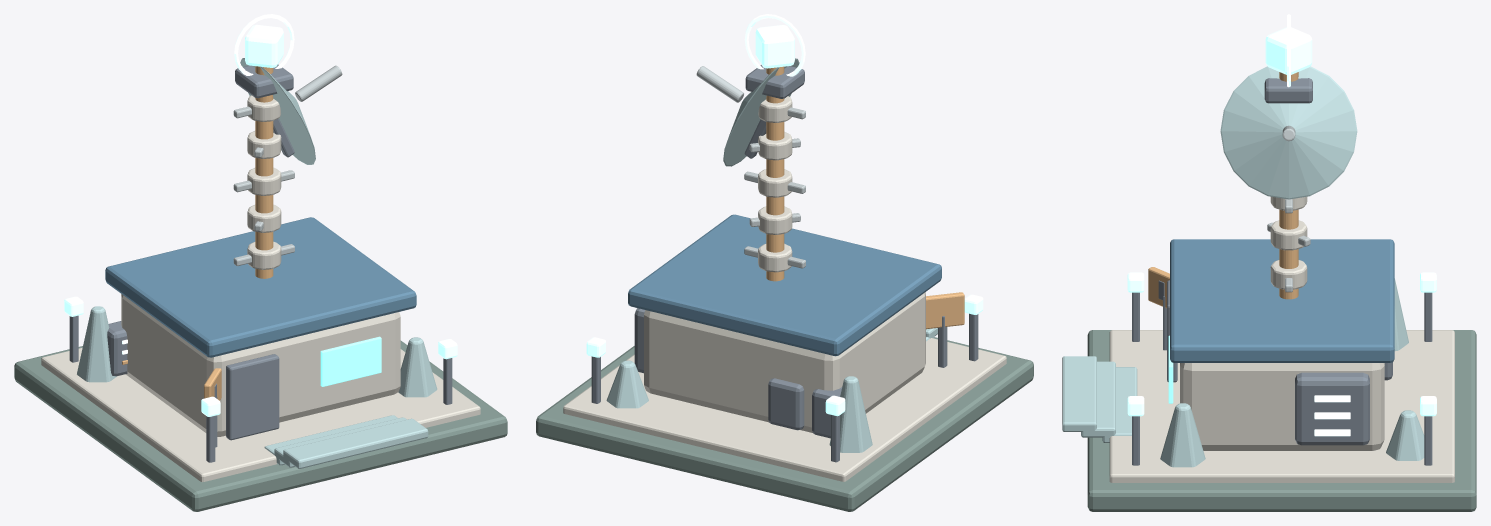
Rendered from 04-relay-station.glb.
The picture shows the model from 3 angles, left to right: view 1: azimuth 30°, elevation 25°; view 2: azimuth 150°, elevation 25°; view 3: azimuth 270°, elevation 25°; orthographic projection. The views are drawn at different scales.
Parts seen in each view (by area): view 1: Relay_Roof, Relay_Main, Relay_Plinth, Relay_Plaza, Relay_Entry, Relay_Step_2, Relay_Window, Relay_IcePillar_0, Relay_Dish, Relay_Mast, Relay_IcePillar_1, Relay_BeaconCube (+11 smaller); view 2: Relay_Roof, Relay_Main, Relay_Plaza, Relay_Plinth, Relay_IcePillar_0, Relay_Dish, Relay_Mast, Relay_CableBox_1, Relay_BeaconCube, Relay_IcePillar_2, Relay_WarningSign, Relay_BeaconBase (+9 smaller); view 3: Relay_Roof, Relay_Plaza, Relay_Plinth, Relay_Dish, Relay_Main, Relay_EquipmentBay, Relay_Step_2, Relay_IcePillar_1, Relay_BeaconCube, Relay_Step_1, Relay_IcePillar_2, Relay_Step_0 (+6 smaller).
Boxes of the visible parts, x1=… form: Relay_Roof: x1=105, y1=217, x2=416, y2=357; Relay_Main: x1=121, y1=294, x2=400, y2=436; Relay_Plinth: x1=14, y1=340, x2=507, y2=511; Relay_Plaza: x1=41, y1=347, x2=480, y2=482; Relay_Entry: x1=226, y1=354, x2=279, y2=440; Relay_Step_2: x1=283, y1=418, x2=428, y2=468; Relay_Window: x1=320, y1=336, x2=381, y2=386; Relay_IcePillar_0: x1=77, y1=306, x2=116, y2=382; Relay_Dish: x1=240, y1=58, x2=315, y2=164; Relay_Mast: x1=255, y1=66, x2=273, y2=278; Relay_IcePillar_1: x1=398, y1=337, x2=437, y2=397; Relay_BeaconCube: x1=245, y1=24, x2=283, y2=67; Relay_Roof: x1=628, y1=214, x2=941, y2=356; Relay_Main: x1=644, y1=292, x2=925, y2=432; Relay_Plaza: x1=563, y1=338, x2=1006, y2=481; Relay_Plinth: x1=536, y1=337, x2=1033, y2=511; Relay_IcePillar_0: x1=829, y1=376, x2=872, y2=452; Relay_Dish: x1=723, y1=58, x2=799, y2=166; Relay_Mast: x1=766, y1=66, x2=784, y2=281; Relay_CableBox_1: x1=768, y1=378, x2=804, y2=430; Relay_BeaconCube: x1=755, y1=25, x2=794, y2=68; Relay_IcePillar_2: x1=606, y1=360, x2=648, y2=408; Relay_WarningSign: x1=926, y1=292, x2=964, y2=329; Relay_BeaconBase: x1=745, y1=65, x2=804, y2=98; Relay_Roof: x1=1170, y1=239, x2=1394, y2=362; Relay_Plaza: x1=1109, y1=330, x2=1454, y2=482; Relay_Plinth: x1=1087, y1=330, x2=1476, y2=511; Relay_Dish: x1=1220, y1=66, x2=1357, y2=199; Relay_Main: x1=1180, y1=363, x2=1384, y2=450; Relay_EquipmentBay: x1=1295, y1=372, x2=1369, y2=445; Relay_Step_2: x1=1062, y1=356, x2=1096, y2=431; Relay_IcePillar_1: x1=1160, y1=403, x2=1205, y2=467; Relay_BeaconCube: x1=1265, y1=27, x2=1312, y2=74; Relay_Step_1: x1=1081, y1=361, x2=1115, y2=437; Relay_IcePillar_2: x1=1386, y1=410, x2=1424, y2=460; Relay_Step_0: x1=1102, y1=367, x2=1137, y2=442.
Bounding box in the file's own units: 5.8 × 6.88 × 6.18.
